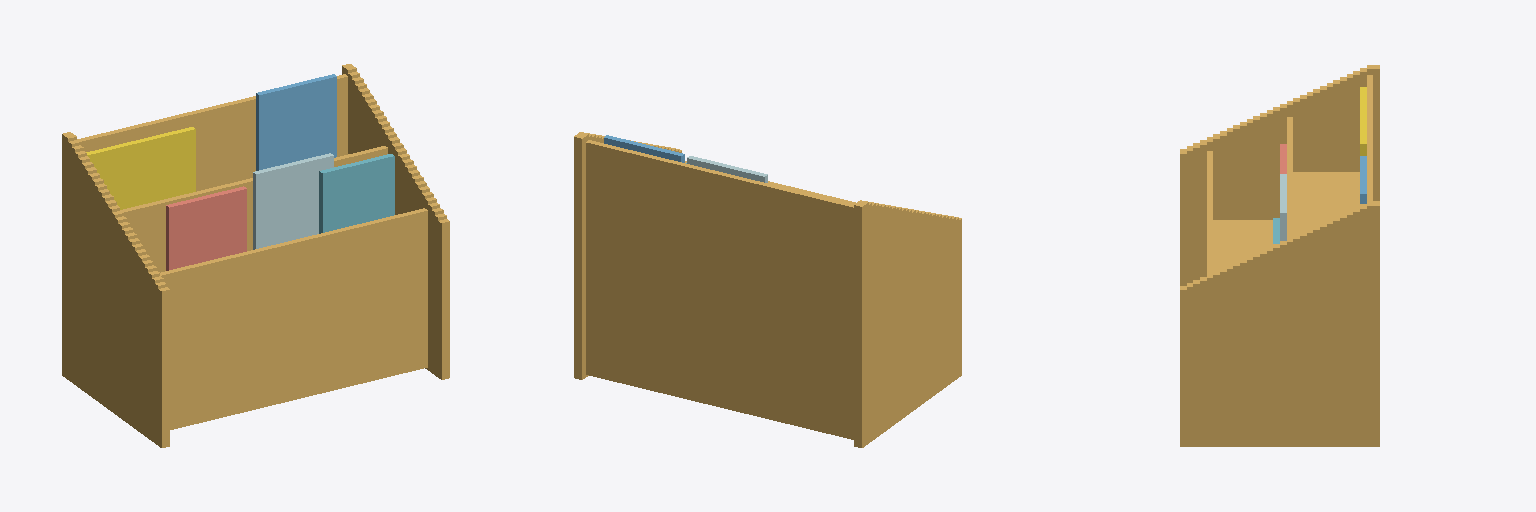
3 renders of one model, left to right at view 1: azimuth 30°, elevation 25°; view 2: azimuth 150°, elevation 25°; view 3: azimuth 270°, elevation 25°, orthographic.
Parts seen in each view (by area): view 1: object 1; view 2: object 1; view 3: object 1.
Boxes of the visible parts, x1=… form: object 1: x1=62, y1=64, x2=449, y2=447; object 1: x1=574, y1=132, x2=961, y2=447; object 1: x1=1180, y1=65, x2=1379, y2=446.
Size of the model in its own units: 10 by 8 by 6.
1 materials, 1 textured.